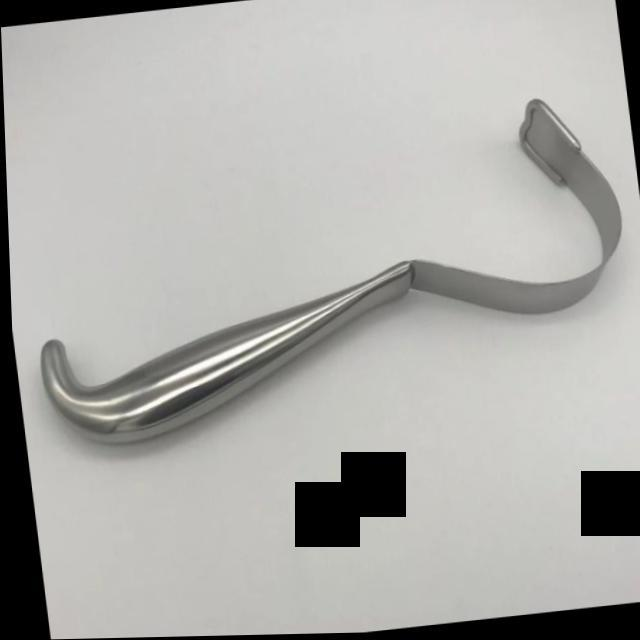Hrrington retractor: (7, 87, 640, 465)
